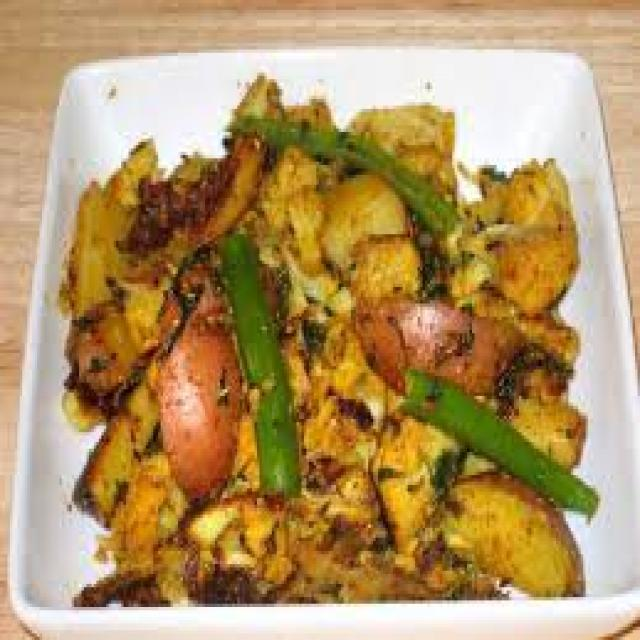aloo_gobi: (68, 71, 625, 601)
